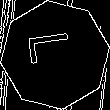L_E: (28, 36, 82, 74)
